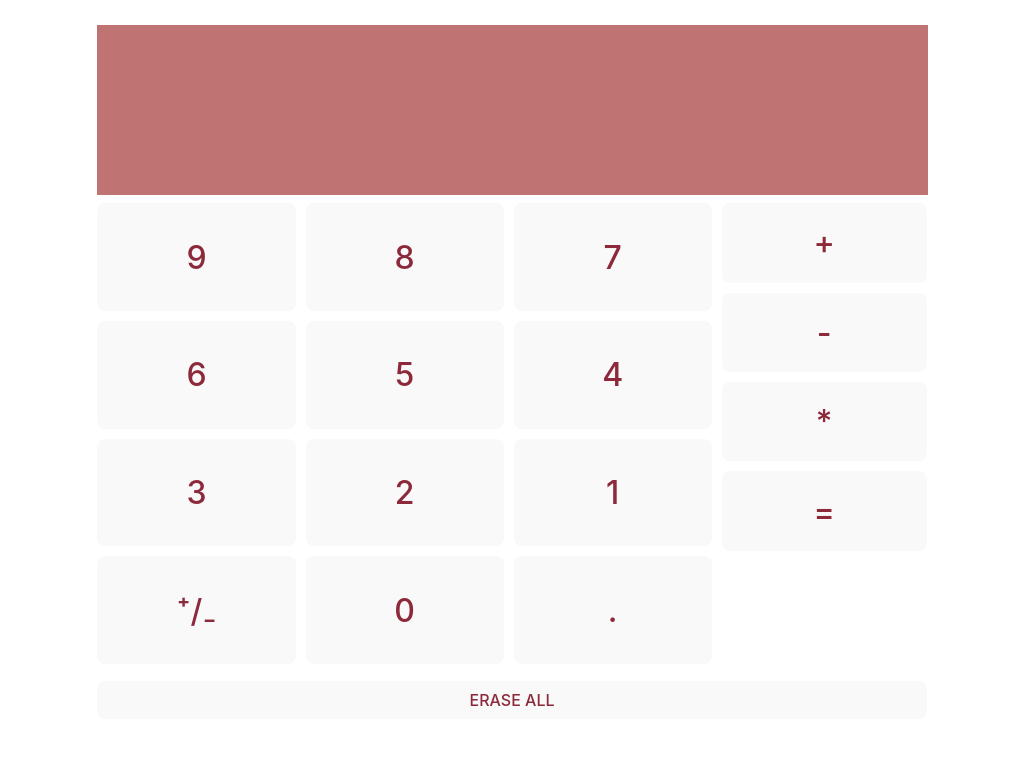
Scenario: App component › displays error when result is negative
The width and height of the screenshot is (1024, 768).
What coordinates should you click on to do the following:
click the button "1"
I would click on:
 (613, 492)
Its box is [514,439,712,546].
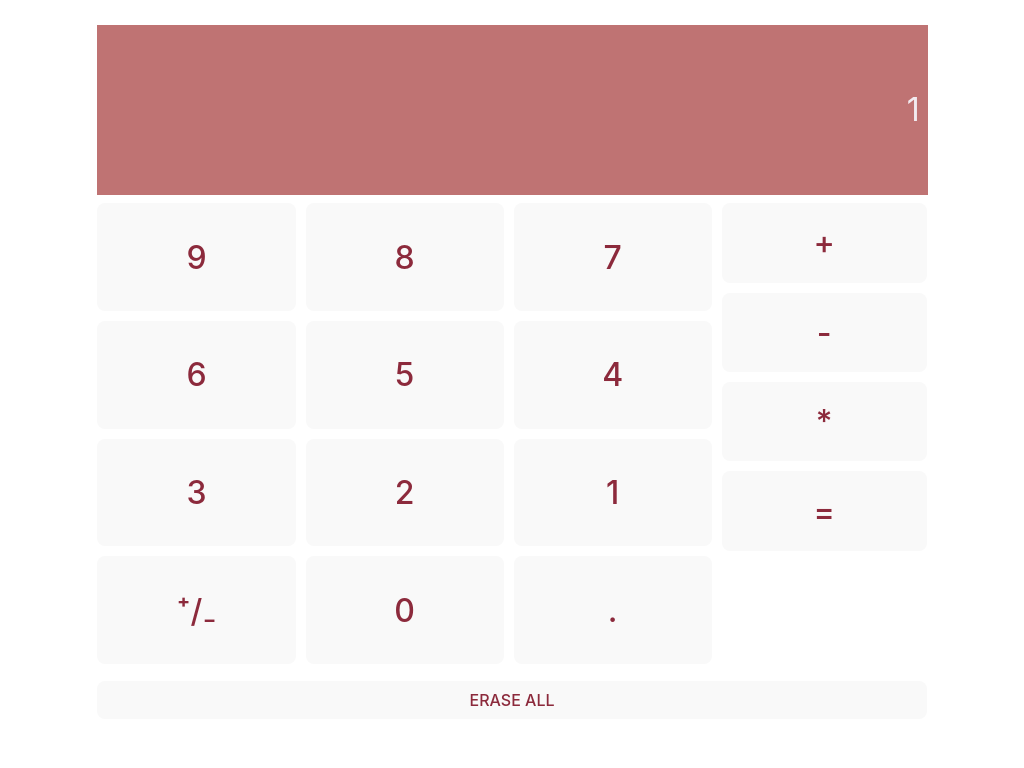
What coordinates should you click on to do the following:
click the button "-"
I would click on:
 (824, 332)
Its box is [722,293,927,372].
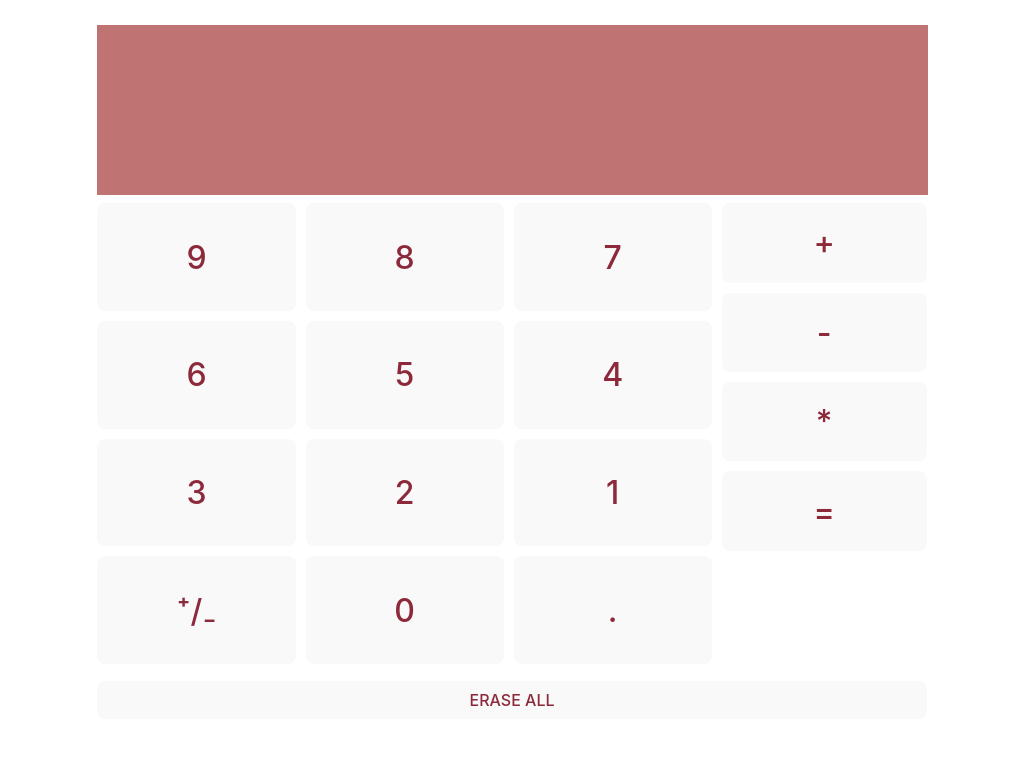
What coordinates should you click on to do the following:
click the button "9"
I would click on:
 (196, 257)
Its box is [97,203,296,311].
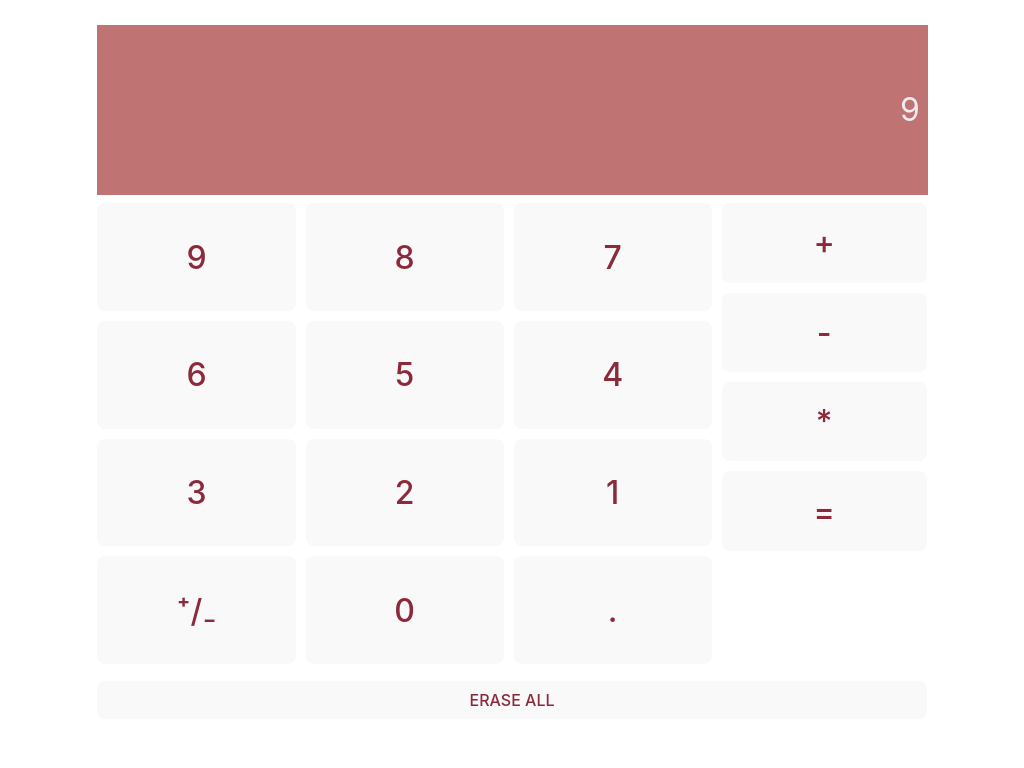
What coordinates should you click on to do the following:
click the button "="
I would click on:
 (824, 511)
Its box is [722,471,927,551].
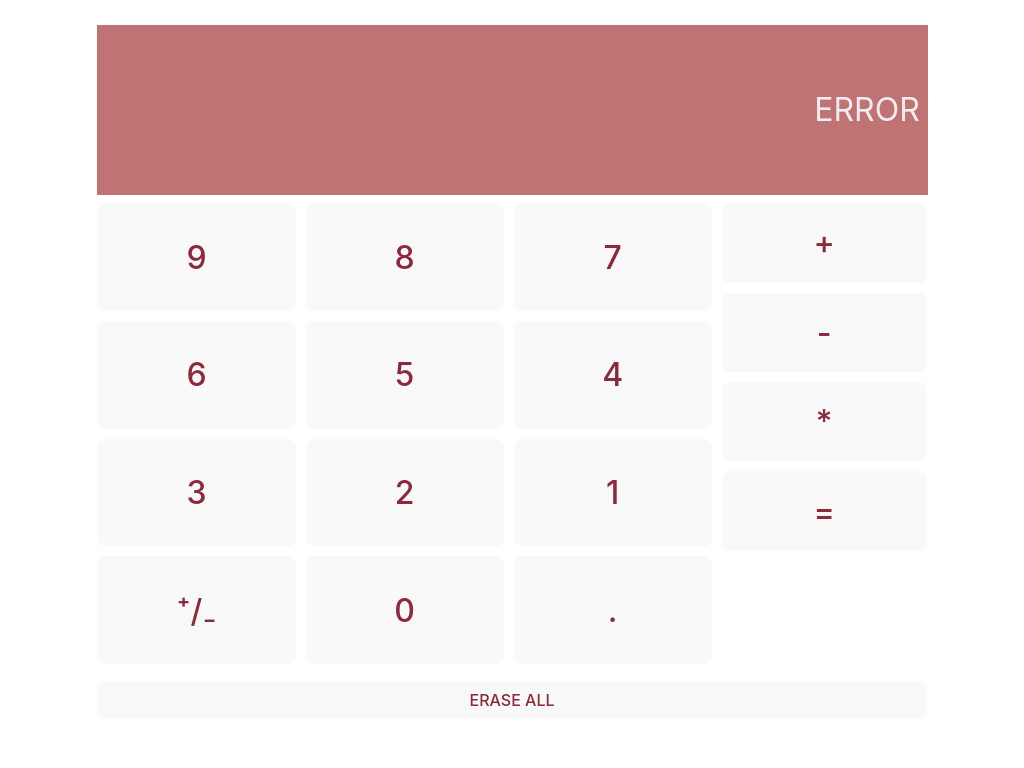
Expected: the text "ERROR" is shown, [97,25,928,195]
